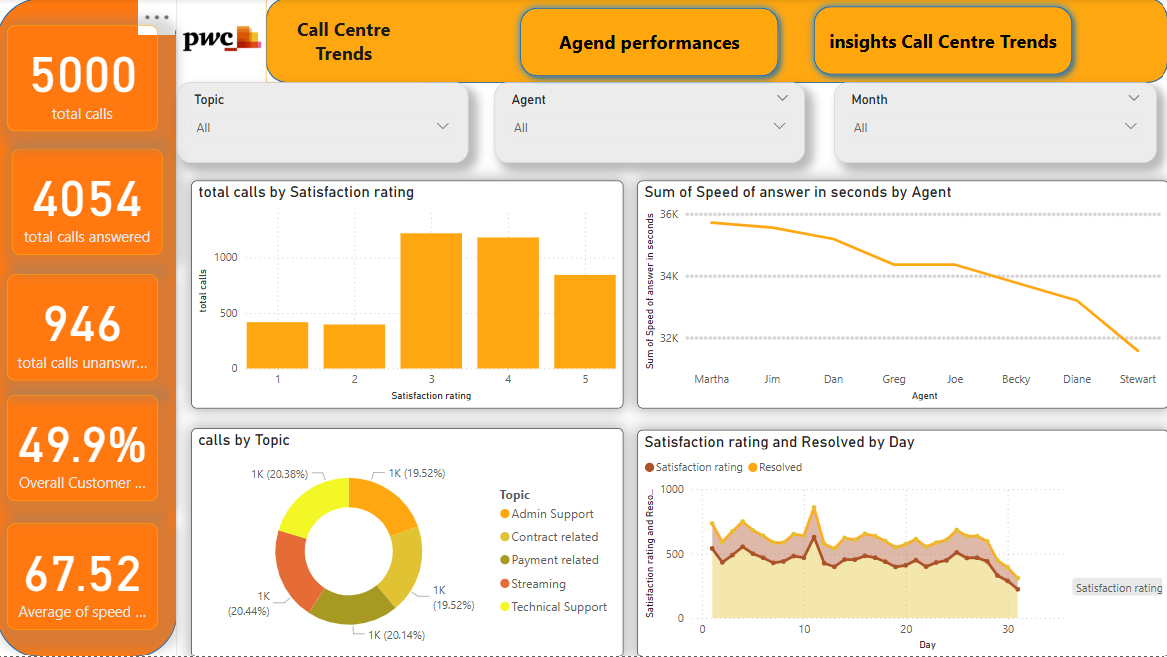

This screenshot's page, from the dashboard's own definition file:
{"tool":"powerbi","page":{"name":"overview_call_centre","canvas":[1280,720],"ordinal":0},"visuals":[{"type":"shape","box":[0,0,198,720.5],"z":0},{"type":"image","box":[198,2.1,96.9,86.4],"z":1000},{"type":"shape","box":[295,0,986,92.7],"z":2000},{"type":"card","fields":{"Values":["Measure_Table.total calls answered"]},"box":[16.9,164.3,164.3,115.9],"z":3000},{"type":"card","fields":{"Values":["Measure_Table.total calls unanswred"]},"box":[12.6,301.3,164.3,115.9],"z":4000},{"type":"card","fields":{"Values":["Measure_Table.total calls"]},"box":[12.6,29.5,164.3,115.9],"z":5000},{"type":"card","fields":{"Values":["Measure_Table.Overall Customer Satisfation"]},"box":[12.6,434,164.3,115.9],"z":6000},{"type":"card","fields":{"Values":["Measure_Table.Average of speed of answerd"]},"box":[12.6,573.1,164.3,115.9],"z":7000},{"type":"shape","box":[295,0,170.7,92.7],"z":8000},{"type":"slicer","fields":{"Values":["Call centre data.Topic"]},"box":[198,92.7,318.1,88.5],"z":9000},{"type":"slicer","fields":{"Values":["Call centre data.Agent"]},"box":[543.6,92.7,339.2,88.5],"z":10000},{"type":"slicer","fields":{"Values":["Call centre data.Month"]},"box":[914.4,92.7,351.8,88.5],"z":11000},{"type":"donutChart","fields":{"Category":["Call centre data.Topic","Call centre data.Date.Variation.Date Hierarchy.Day"],"Y":["Measure_Table.total calls"]},"box":[212.8,469.8,471.9,250.7],"z":12000},{"type":"clusteredColumnChart","fields":{"Category":["Call centre data.Satisfaction rating"],"Y":["Measure_Table.total calls"]},"box":[212.8,200.1,471.9,248.6],"z":13000},{"type":"lineChart","fields":{"Category":["Call centre data.Agent"],"Y":["Sum(Call centre data.Speed of answer in seconds)"]},"box":[699.5,200.1,581.5,248.6],"z":14000},{"type":"stackedAreaChart","fields":{"Category":["Call centre data.Date.Variation.Date Hierarchy.Day"],"Y":["Sum(Call centre data.Satisfaction rating)","CountNonNull(Call centre data.Resolved)"]},"box":[699.5,471.9,581.5,248.6],"z":15000},{"type":"shape","box":[563,1.9,300,92.6],"z":16000},{"type":"shape","box":[883.3,0,300,92.6],"z":16001}]}

Visuals, with their boxes in screenshot pixels (x1, y1, x2, y2), scaled from the page's 1280x720 canvas onto the 1167x657 screenshot:
shape: 0:0:181:656
image: 181:2:269:81
shape: 269:0:1166:85
card - Measure_Table.total calls answered: 15:150:165:256
card - Measure_Table.total calls unanswred: 11:275:161:381
card - Measure_Table.total calls: 11:27:161:133
card - Measure_Table.Overall Customer Satisfation: 11:396:161:502
card - Measure_Table.Average of speed of answerd: 11:523:161:629
shape: 269:0:425:85
slicer - Call centre data.Topic: 181:85:471:165
slicer - Call centre data.Agent: 496:85:805:165
slicer - Call centre data.Month: 834:85:1154:165
donutChart - Call centre data.Topic x Call centre data.Date.Variation.Date Hierarchy.Day: 194:429:624:656
clusteredColumnChart - Call centre data.Satisfaction rating x Measure_Table.total calls: 194:183:624:409
lineChart - Call centre data.Agent x Sum(Call centre data.Speed of answer in seconds): 638:183:1166:409
stackedAreaChart - Call centre data.Date.Variation.Date Hierarchy.Day x Sum(Call centre data.Satisfaction rating): 638:431:1166:656
shape: 513:2:787:86
shape: 805:0:1079:84
